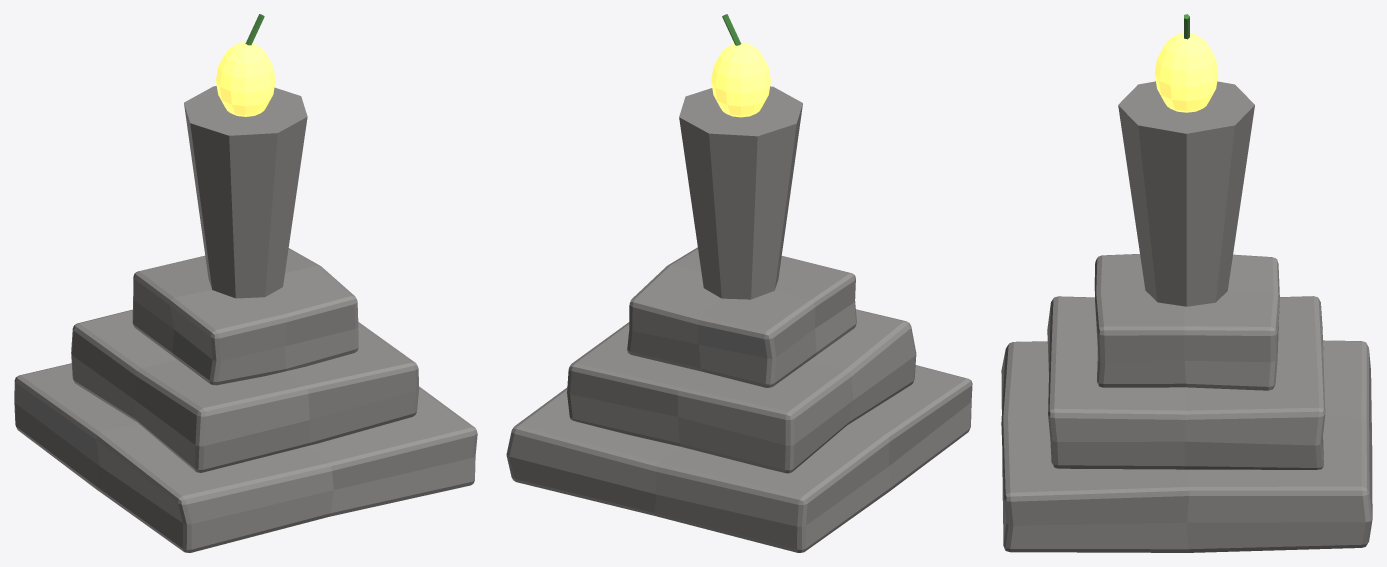
The model's file is seed_shrine.glb.
The picture shows the model from 3 angles, left to right: view 1: azimuth 30°, elevation 25°; view 2: azimuth 150°, elevation 25°; view 3: azimuth 270°, elevation 25°; orthographic projection. The views are drawn at different scales.
Parts seen in each view (by area): view 1: Cube, Cube.001, Cube.002, Cone, Sphere; view 2: Cube, Cube.001, Cube.002, Cone, Sphere; view 3: Cube, Cube.001, Cone, Cube.002, Sphere.
Part boxes in pixels (x1,y1,x2,y2): Cube: [14, 363, 477, 552]; Cube.001: [71, 309, 419, 472]; Cube.002: [132, 248, 358, 385]; Cone: [184, 86, 307, 298]; Sphere: [216, 42, 275, 116]; Cube: [506, 365, 972, 552]; Cube.001: [567, 309, 916, 473]; Cube.002: [627, 247, 856, 387]; Cone: [679, 86, 802, 299]; Sphere: [711, 42, 770, 117]; Cube: [1001, 340, 1372, 552]; Cube.001: [1047, 296, 1325, 469]; Cone: [1118, 81, 1254, 306]; Cube.002: [1094, 254, 1279, 390]; Sphere: [1154, 33, 1218, 112].
Bounding box in the file's own units: 1.62 × 2.28 × 1.63.
